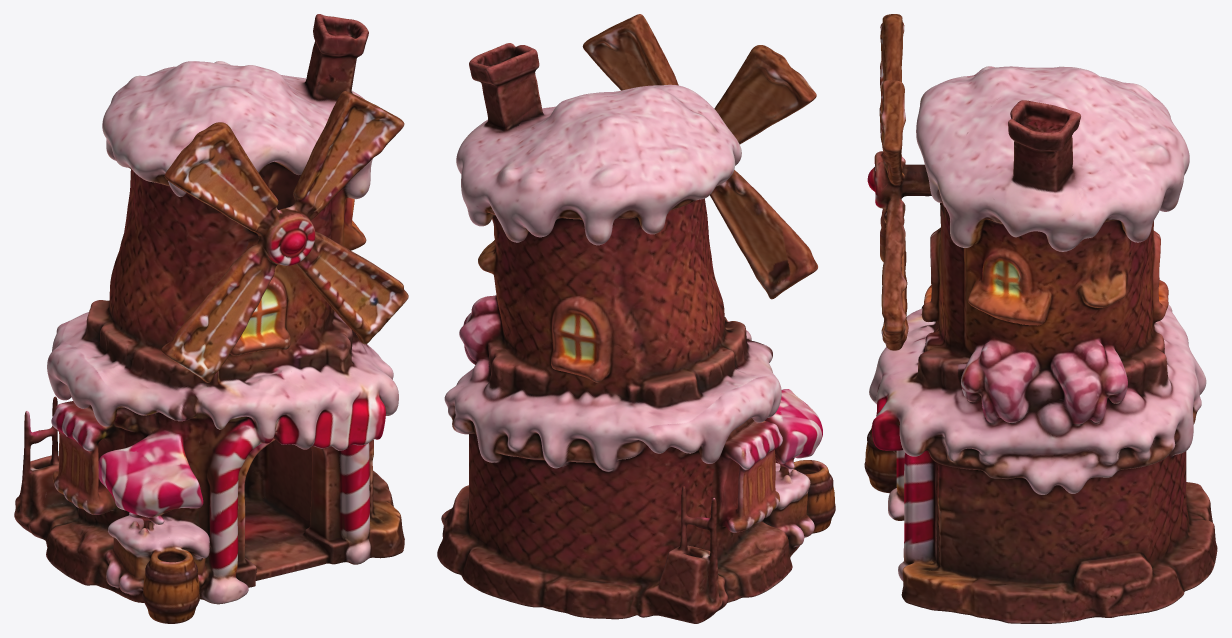
Rendered from Meshy_AI_Gingerbread_Windmill_20261104_texture.fbx.
3 renders of one model, left to right at view 1: azimuth 30°, elevation 25°; view 2: azimuth 150°, elevation 25°; view 3: azimuth 270°, elevation 25°, orthographic. The views are drawn at different scales.
Parts seen in each view (by area): view 1: Mesh_0; view 2: Mesh_0; view 3: Mesh_0.
Boxes of the visible parts, bbox=[...] form: Mesh_0: bbox=[14, 14, 408, 623]; Mesh_0: bbox=[437, 14, 835, 623]; Mesh_0: bbox=[864, 14, 1217, 623].
Bounding box in the file's own units: 131 × 190 × 123.
1 material, 1 textured.
